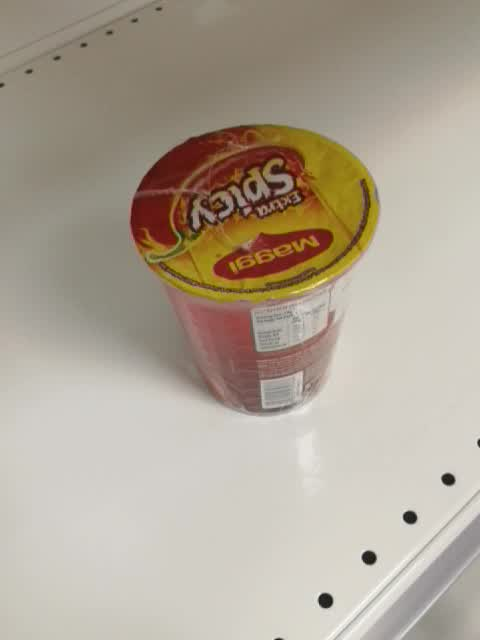maggi: (129, 123, 381, 418)
